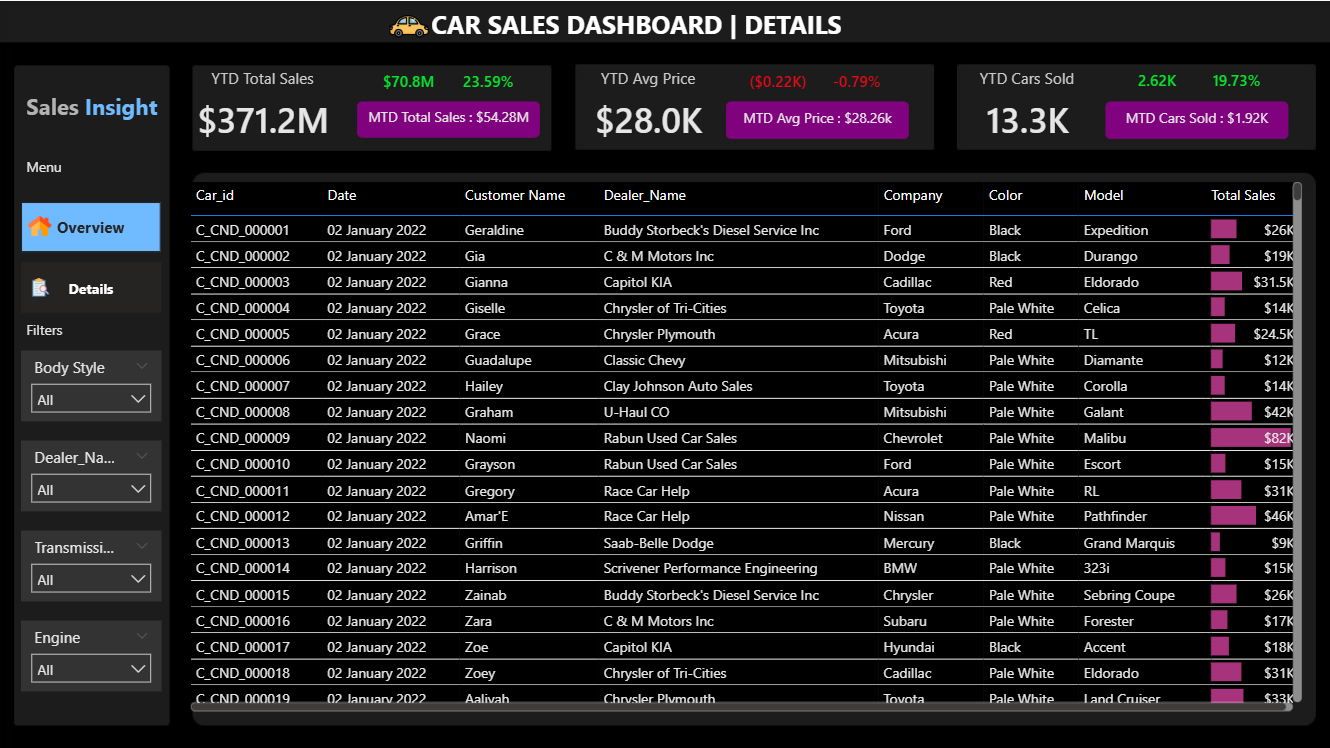

The dashboard page shown, as its layout file describes it:
{"tool":"powerbi","page":{"name":"Details","canvas":[1280,720],"ordinal":1},"visuals":[{"type":"card","title":"YTD Total Sales","fields":{"Values":["car_data.YTD Total Sales"]},"box":[180.2,63.6,149.9,80.3],"z":0},{"type":"card","fields":{"Values":["car_data.sales differences"]},"box":[357.4,62.1,75.7,34.8],"z":1000},{"type":"card","fields":{"Values":["car_data.YOY Sales Growth"]},"box":[433.1,62.1,75.7,34.8],"z":2000},{"type":"card","fields":{"Values":["car_data.MTD KPI"]},"box":[345.2,96.9,175.6,34.8],"z":3000},{"type":"card","title":"YTD Avg Price","fields":{"Values":["car_data.YTD Avg Price"]},"box":[549.7,63.6,149.9,80.3],"z":4000},{"type":"card","fields":{"Values":["car_data.AVG Price diff"]},"box":[710.4,61.8,76.2,34.5],"z":5000},{"type":"card","fields":{"Values":["car_data.YOY Avg Growth"]},"box":[786.6,61.8,74.8,34.5],"z":6000},{"type":"card","fields":{"Values":["car_data.MTD Avg Price KPI"]},"box":[698.9,96.4,175.4,36],"z":7000},{"type":"card","title":"YTD Cars Sold","fields":{"Values":["car_data.YTD Cars Sold"]},"box":[912.5,63.9,149.1,80.3],"z":8000},{"type":"card","fields":{"Values":["car_data.Car sold diff"]},"box":[1074.7,60.6,75.4,34.4],"z":9000},{"type":"card","fields":{"Values":["car_data.YoY Cars Sold Growth"]},"box":[1150,60.6,75.4,34.4],"z":10000},{"type":"card","fields":{"Values":["car_data.MTD Cars Sold KPI"]},"box":[1063.2,96.7,175.3,36],"z":11000},{"type":"textbox","box":[411.3,0,457.3,41.7],"z":12000},{"type":"tableEx","fields":{"Values":["car_data.Car_id","car_data.Date","car_data.Customer Name","car_data.Dealer_Name","car_data.Company","car_data.Color","car_data.Model","Sum(car_data.Price ($))"]},"box":[180.2,168.1,1076.6,517.9],"z":13000},{"type":"group","id":"g1","title":"Group 1","box":[22.7,299.9,134.8,361.9],"z":13000,"group":"g2"},{"type":"image","box":[357.7,0,73.8,48.5],"z":14000},{"type":"group","id":"g2","title":"Group 2","box":[17.2,80.3,163,581.5],"z":15000},{"type":"textbox","box":[22.7,143.9,104.5,34.8],"z":15000,"group":"g2"},{"type":"pageNavigator","box":[22.7,192.4,134.8,107.5],"z":16000,"group":"g2"},{"type":"textbox","box":[22.7,80.3,157.5,63.6],"z":17000,"group":"g2"},{"type":"image","box":[17.2,198.9,46.7,33.3],"z":18000,"group":"g2"},{"type":"slicer","fields":{"Values":["car_data.Body Style"]},"box":[22.7,334.7,134.8,68.1],"z":18000,"group":"g1"},{"type":"image","box":[26.6,260,28,28.7],"z":19000,"group":"g2"},{"type":"slicer","fields":{"Values":["car_data.Dealer_Name"]},"box":[22.7,421,134.8,68.1],"z":19000,"group":"g1"},{"type":"slicer","fields":{"Values":["car_data.Transmission"]},"box":[22.7,507.3,134.8,68.1],"z":20000,"group":"g1"},{"type":"slicer","fields":{"Values":["car_data.Engine"]},"box":[22.7,593.7,134.8,68.1],"z":21000,"group":"g1"},{"type":"textbox","box":[22.7,299.9,104.5,34.8],"z":22000,"group":"g1"}]}

Visuals, with their boxes on the page's 1280x720 design canvas (x1, y1, x2, y2). These are canvas units, not pixel positions in the 1330x748 screenshot, which may show the page scaled, cropped or inside an application window:
"YTD Total Sales" card: pyautogui.locateOnScreen(180, 64, 330, 144)
card - car_data.sales differences: pyautogui.locateOnScreen(357, 62, 433, 97)
card - car_data.YOY Sales Growth: pyautogui.locateOnScreen(433, 62, 509, 97)
card - car_data.MTD KPI: pyautogui.locateOnScreen(345, 97, 521, 132)
"YTD Avg Price" card: pyautogui.locateOnScreen(550, 64, 700, 144)
card - car_data.AVG Price diff: pyautogui.locateOnScreen(710, 62, 787, 96)
card - car_data.YOY Avg Growth: pyautogui.locateOnScreen(787, 62, 861, 96)
card - car_data.MTD Avg Price KPI: pyautogui.locateOnScreen(699, 96, 874, 132)
"YTD Cars Sold" card: pyautogui.locateOnScreen(912, 64, 1062, 144)
card - car_data.Car sold diff: pyautogui.locateOnScreen(1075, 61, 1150, 95)
card - car_data.YoY Cars Sold Growth: pyautogui.locateOnScreen(1150, 61, 1225, 95)
card - car_data.MTD Cars Sold KPI: pyautogui.locateOnScreen(1063, 97, 1238, 133)
textbox: pyautogui.locateOnScreen(411, 0, 869, 42)
tableEx - car_data.Car_id x car_data.Date: pyautogui.locateOnScreen(180, 168, 1257, 686)
"Group 1" group: pyautogui.locateOnScreen(23, 300, 158, 662)
image: pyautogui.locateOnScreen(358, 0, 432, 48)
"Group 2" group: pyautogui.locateOnScreen(17, 80, 180, 662)
textbox: pyautogui.locateOnScreen(23, 144, 127, 179)
pageNavigator: pyautogui.locateOnScreen(23, 192, 158, 300)
textbox: pyautogui.locateOnScreen(23, 80, 180, 144)
image: pyautogui.locateOnScreen(17, 199, 64, 232)
slicer - car_data.Body Style: pyautogui.locateOnScreen(23, 335, 158, 403)
image: pyautogui.locateOnScreen(27, 260, 55, 289)
slicer - car_data.Dealer_Name: pyautogui.locateOnScreen(23, 421, 158, 489)
slicer - car_data.Transmission: pyautogui.locateOnScreen(23, 507, 158, 575)
slicer - car_data.Engine: pyautogui.locateOnScreen(23, 594, 158, 662)
textbox: pyautogui.locateOnScreen(23, 300, 127, 335)
